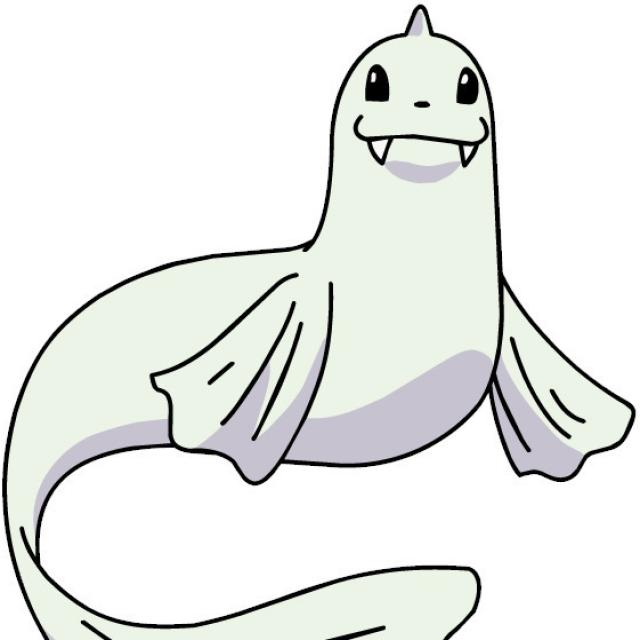Dewgong: (132, 8, 548, 469)
